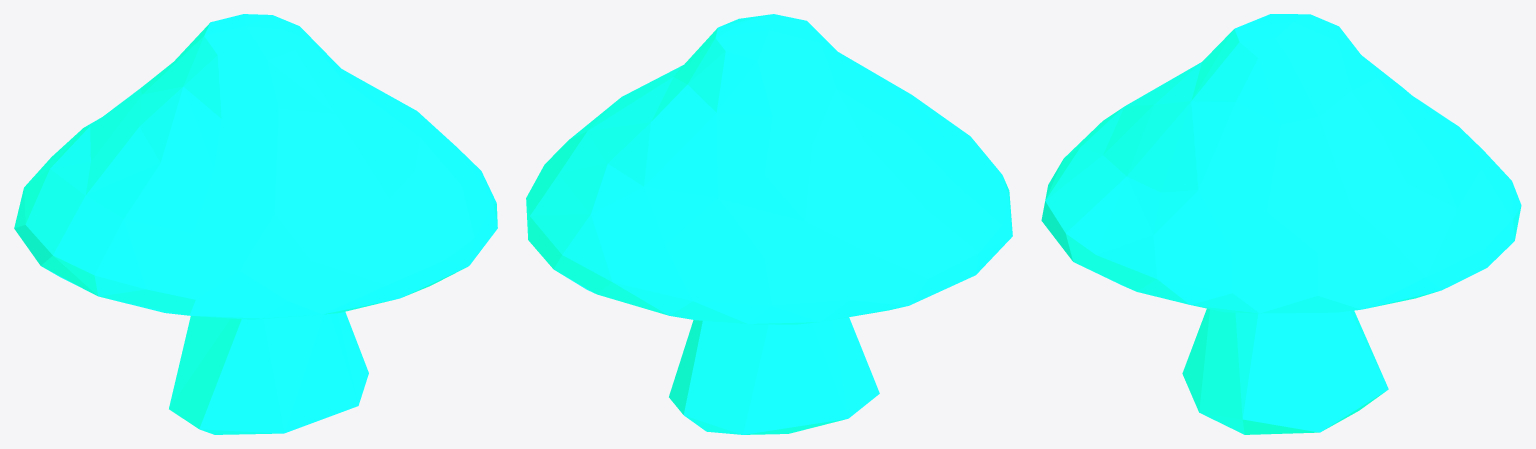
Rendered from bright_3.glb.
3 views of the same model, side by side, from view 1: azimuth 30°, elevation 25°; view 2: azimuth 150°, elevation 25°; view 3: azimuth 270°, elevation 25° (orthographic). The views are drawn at different scales.
Visible parts, largest first — view 1: bright_3; view 2: bright_3; view 3: bright_3.
Part boxes in pixels (x1=…): bright_3: x1=14, y1=14, x2=497, y2=434; bright_3: x1=526, y1=14, x2=1012, y2=434; bright_3: x1=1041, y1=14, x2=1521, y2=434.
Size of the model in its own units: 7 by 6.04 by 6.98.
